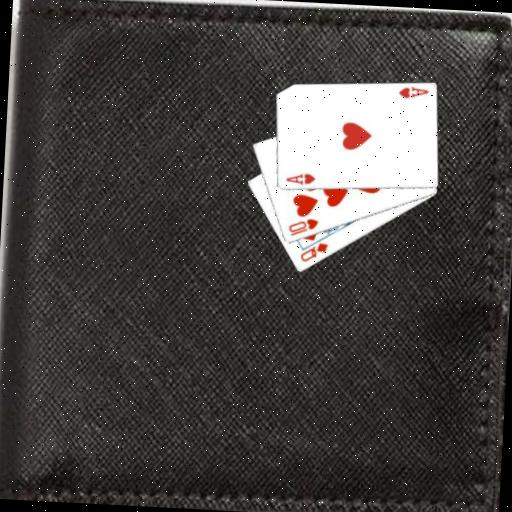10H: (285, 214, 320, 239)
AH: (396, 84, 431, 102), (283, 170, 317, 187)
QD: (297, 238, 330, 265)
